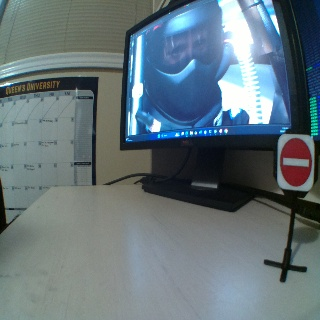sign_noentry: (276, 133, 313, 187)
